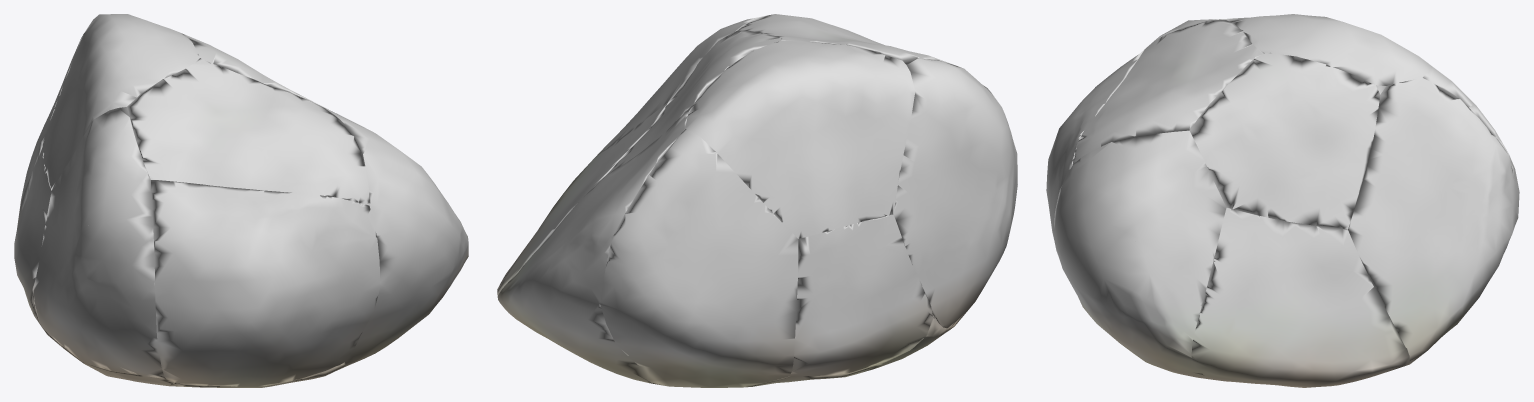
The model's file is gold_rock_crumbs.glb.
3 renders of one model, left to right at view 1: azimuth 30°, elevation 25°; view 2: azimuth 150°, elevation 25°; view 3: azimuth 270°, elevation 25°, orthographic. The views are drawn at different scales.
Parts seen in each view (by area): view 1: Crumb_05_c05, Crumb_04_c04, Crumb_05_c02, Crumb_05_c11, Crumb_05_c03, Crumb_05_c25, Crumb_05_c00, Crumb_04_c08, Crumb_04_c27, Crumb_05_c31, Crumb_04_c25, Crumb_05_c07 (+112 smaller); view 2: Crumb_02_c07, Crumb_02_c16, Crumb_02_c05, Crumb_03_c01, Crumb_02_c09, Crumb_02_c18, Crumb_02_c24, Crumb_02_c01, Crumb_08_c01, Crumb_04_c11, Crumb_08_c06, Crumb_08_c03 (+107 smaller); view 3: Crumb_00_c26, Crumb_00_c00, Crumb_07_c23, Crumb_00_c02, Crumb_01_c19, Crumb_07_c13, Crumb_00_c09, Crumb_01_c13, Crumb_01_c18, Crumb_01_c04, Crumb_01_c03, Crumb_01_c06 (+137 smaller).
Boxes of the visible parts, box(x1,y1,x2,y2) form: Crumb_05_c05: box(223, 211, 277, 260); Crumb_04_c04: box(94, 156, 147, 202); Crumb_05_c02: box(260, 190, 319, 234); Crumb_05_c11: box(162, 345, 220, 385); Crumb_05_c03: box(154, 241, 196, 295); Crumb_05_c25: box(270, 233, 318, 283); Crumb_05_c00: box(159, 218, 223, 259); Crumb_04_c08: box(109, 304, 158, 349); Crumb_04_c27: box(115, 265, 155, 316); Crumb_05_c31: box(292, 196, 329, 264); Crumb_04_c25: box(89, 199, 127, 251); Crumb_05_c07: box(176, 301, 215, 345); Crumb_02_c07: box(603, 256, 667, 310); Crumb_02_c16: box(729, 323, 795, 387); Crumb_02_c05: box(649, 146, 711, 193); Crumb_03_c01: box(793, 317, 856, 376); Crumb_02_c09: box(705, 325, 763, 382); Crumb_02_c18: box(647, 290, 698, 340); Crumb_02_c24: box(627, 355, 739, 387); Crumb_02_c01: box(664, 247, 714, 293); Crumb_08_c01: box(719, 115, 766, 155); Crumb_04_c11: box(902, 58, 948, 114); Crumb_08_c06: box(854, 56, 903, 106); Crumb_08_c03: box(751, 70, 798, 121); Crumb_00_c26: box(1296, 345, 1341, 387); Crumb_00_c00: box(1206, 335, 1246, 381); Crumb_07_c23: box(1189, 112, 1231, 167); Crumb_00_c02: box(1326, 256, 1373, 301); Crumb_01_c19: box(1348, 215, 1391, 263); Crumb_07_c13: box(1204, 87, 1255, 126); Crumb_00_c09: box(1364, 331, 1409, 376); Crumb_01_c13: box(1398, 78, 1440, 120); Crumb_01_c18: box(1365, 244, 1415, 286); Crumb_01_c04: box(1416, 291, 1456, 338); Crumb_01_c03: box(1462, 213, 1501, 253); Crumb_01_c06: box(1365, 150, 1408, 189).
Bounding box in the file's own units: 2.25 × 1.56 × 2.48.
